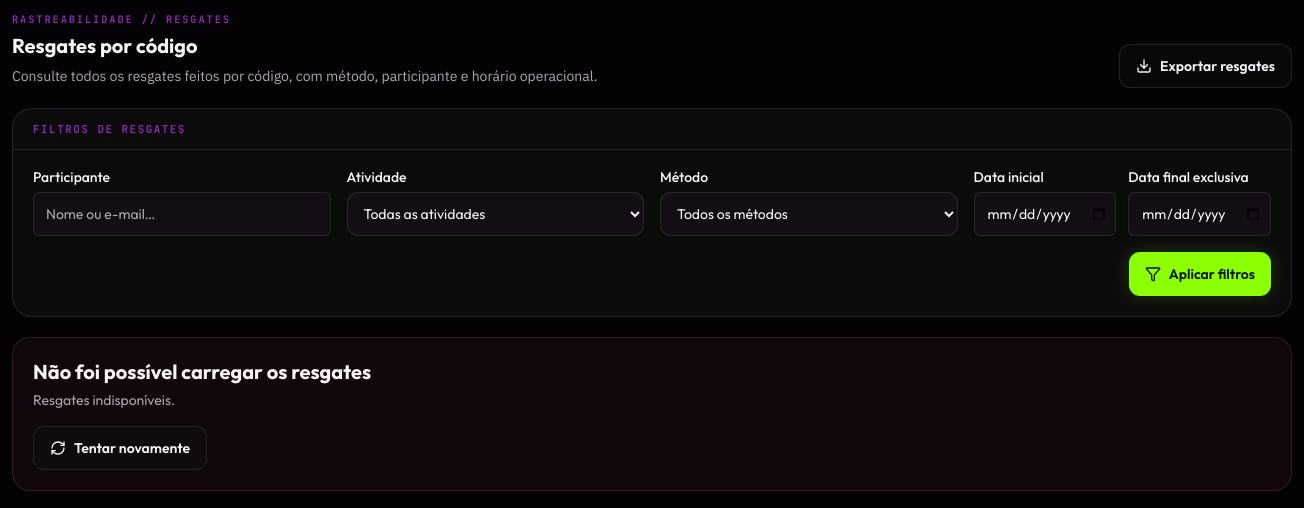
Test: CodeRedemptionHistory › keeps list failures and empty state retryable
This screenshot has width=1304, height=508.
Expected: the message shows "Resgates indisponíveis.", top-left (33, 391), bottom-right (175, 409)
Click the button "Tentar novamente". click: (120, 448)
box: top-left (33, 426), bottom-right (207, 470)
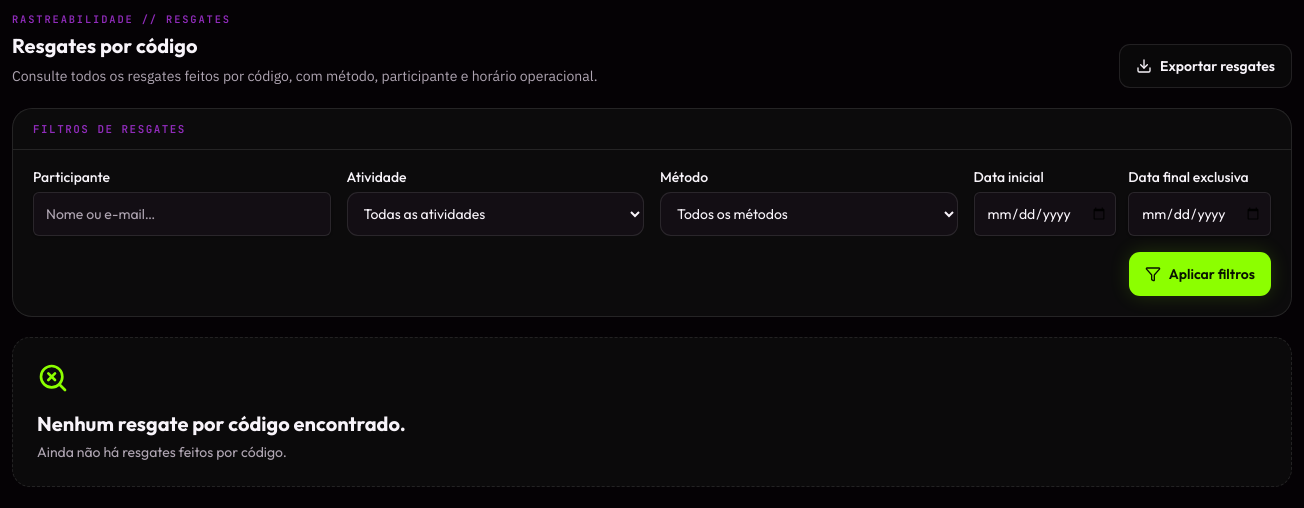
Expected: the heading "Nenhum resgate por código encontrado." is shown, top-left (37, 410), bottom-right (406, 438)
